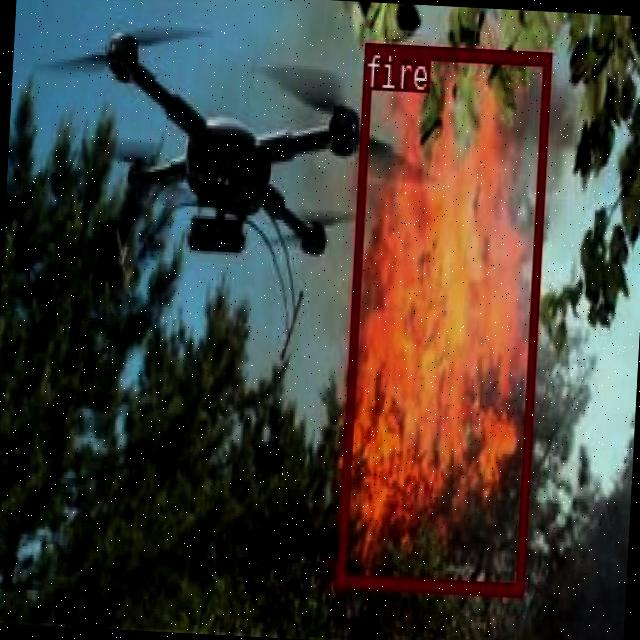fire: (336, 42, 549, 596)
